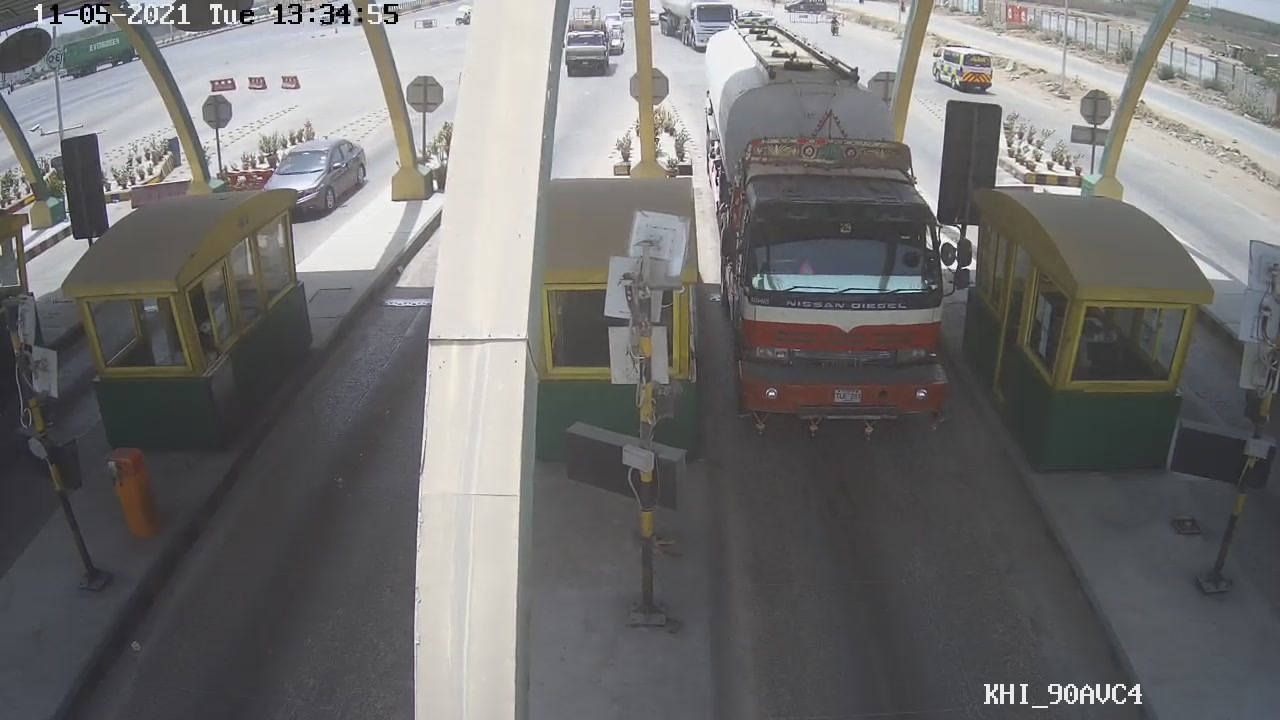F6: (705, 24, 961, 439)
